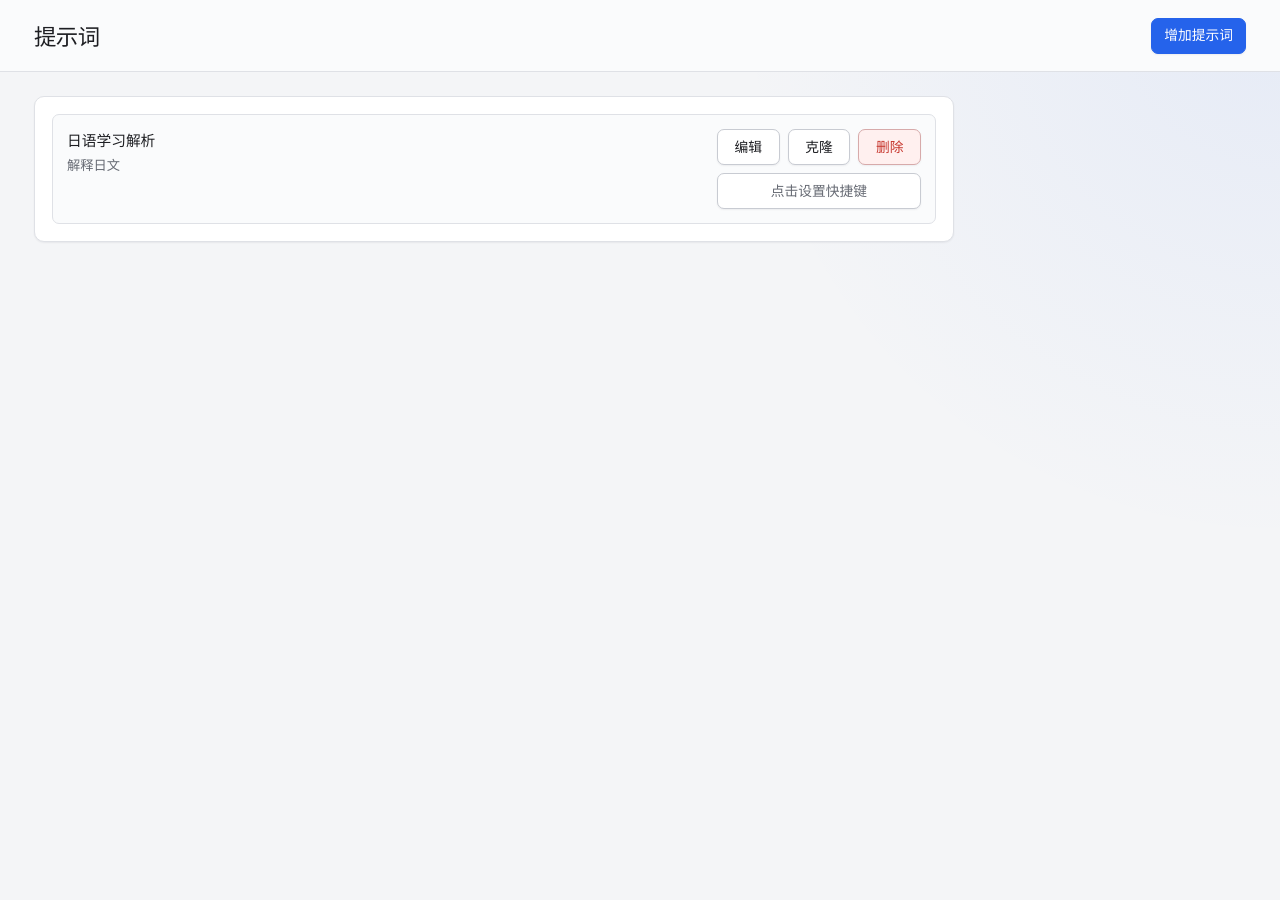
Test case: Prompts › loads, creates, edits, duplicates, and keeps keyboard-focusable controls
Expected: the heading "日语学习解析" is shown, [67, 130, 155, 150]
Click the button "编辑".
click(748, 147)  # box [717, 129, 780, 165]
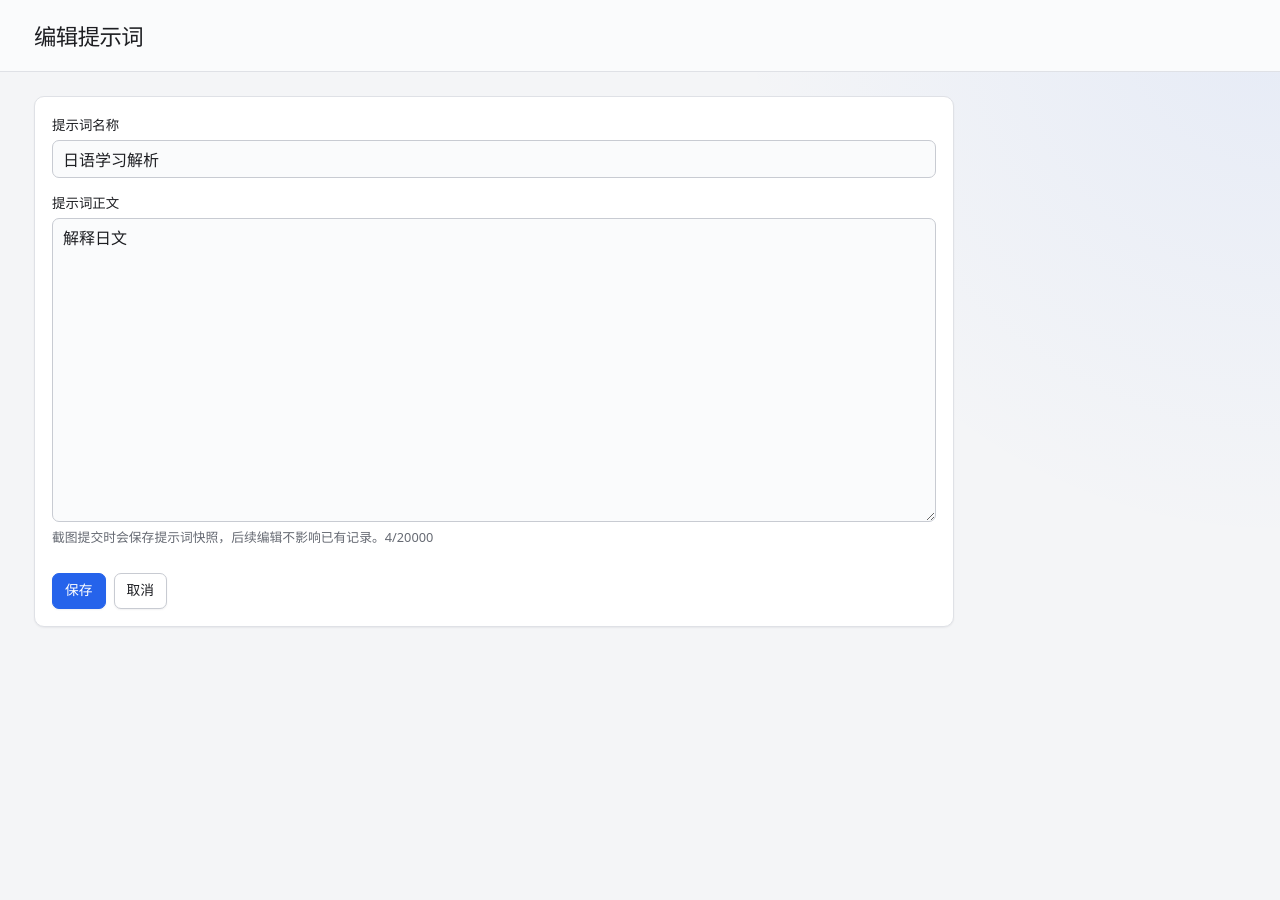
Now the field labelled "提示词名称" holds "日语学习解析", box [52, 140, 936, 178]
Replace the text in the text box labelled "提示词正文" with "更新正文" at (494, 370), box [52, 218, 936, 522]
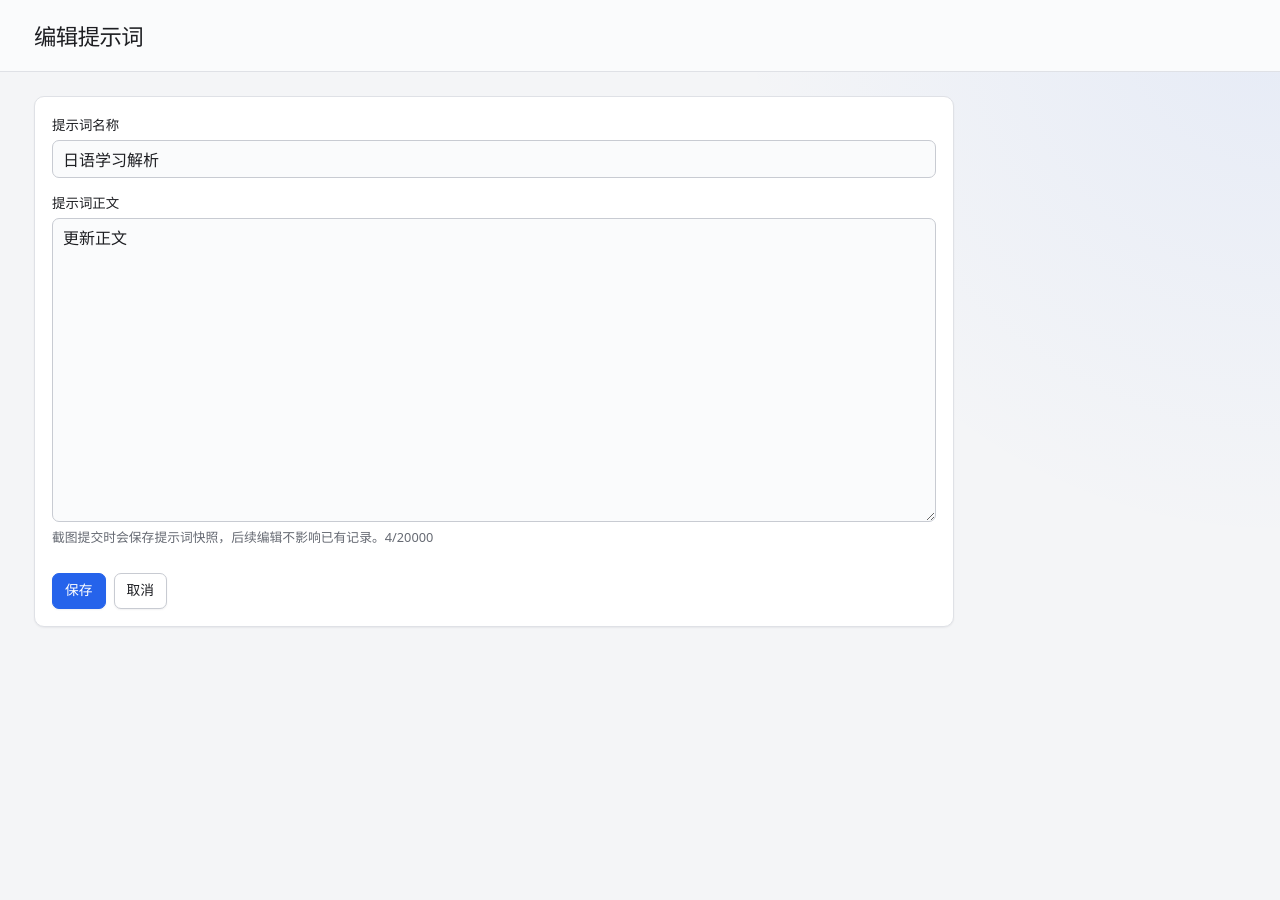
Click the button "保存".
click(79, 590)  # box [52, 572, 106, 608]
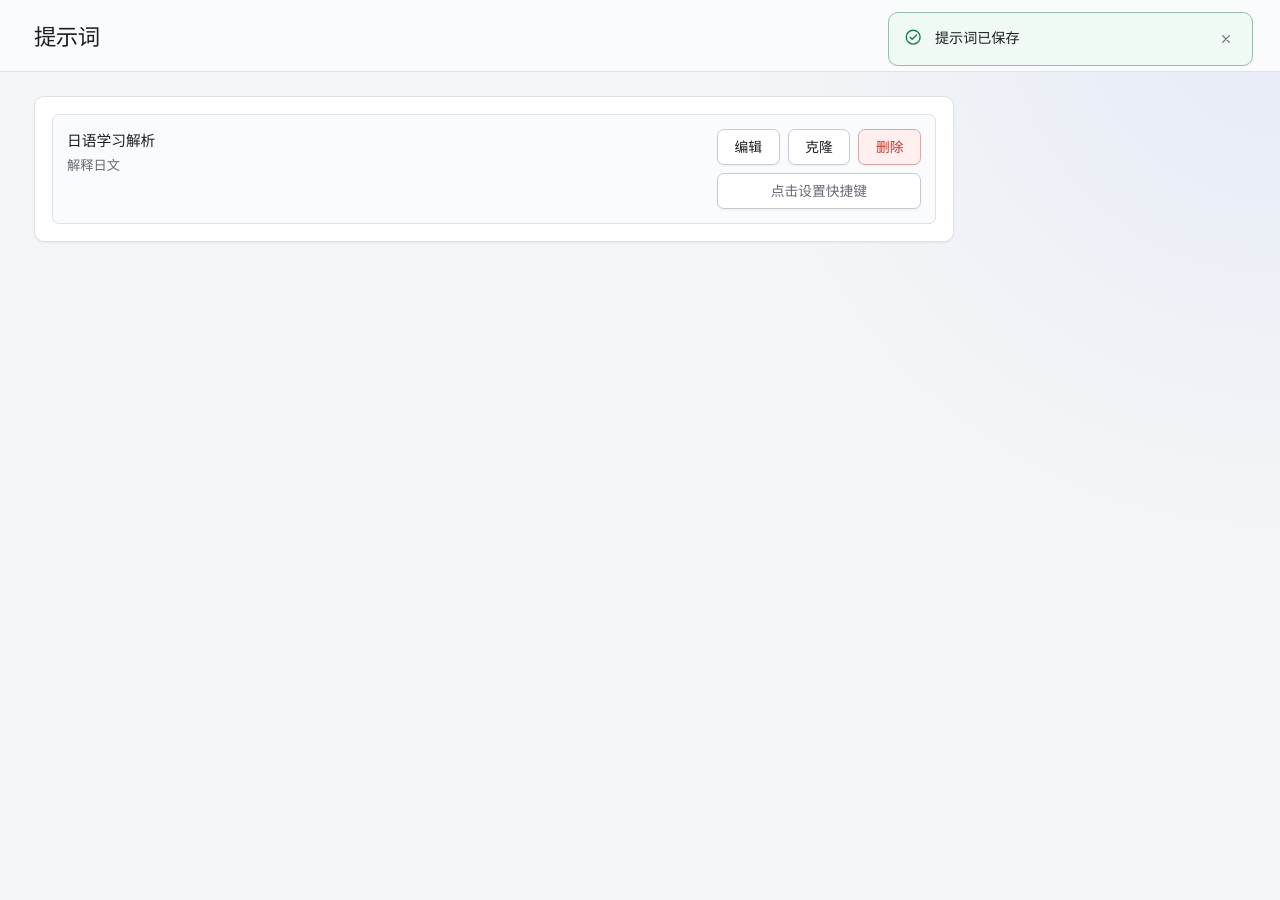
Now the text "提示词已保存" is shown, box [935, 28, 1020, 47]
Click the button "克隆".
click(819, 147)  # box [788, 129, 850, 165]
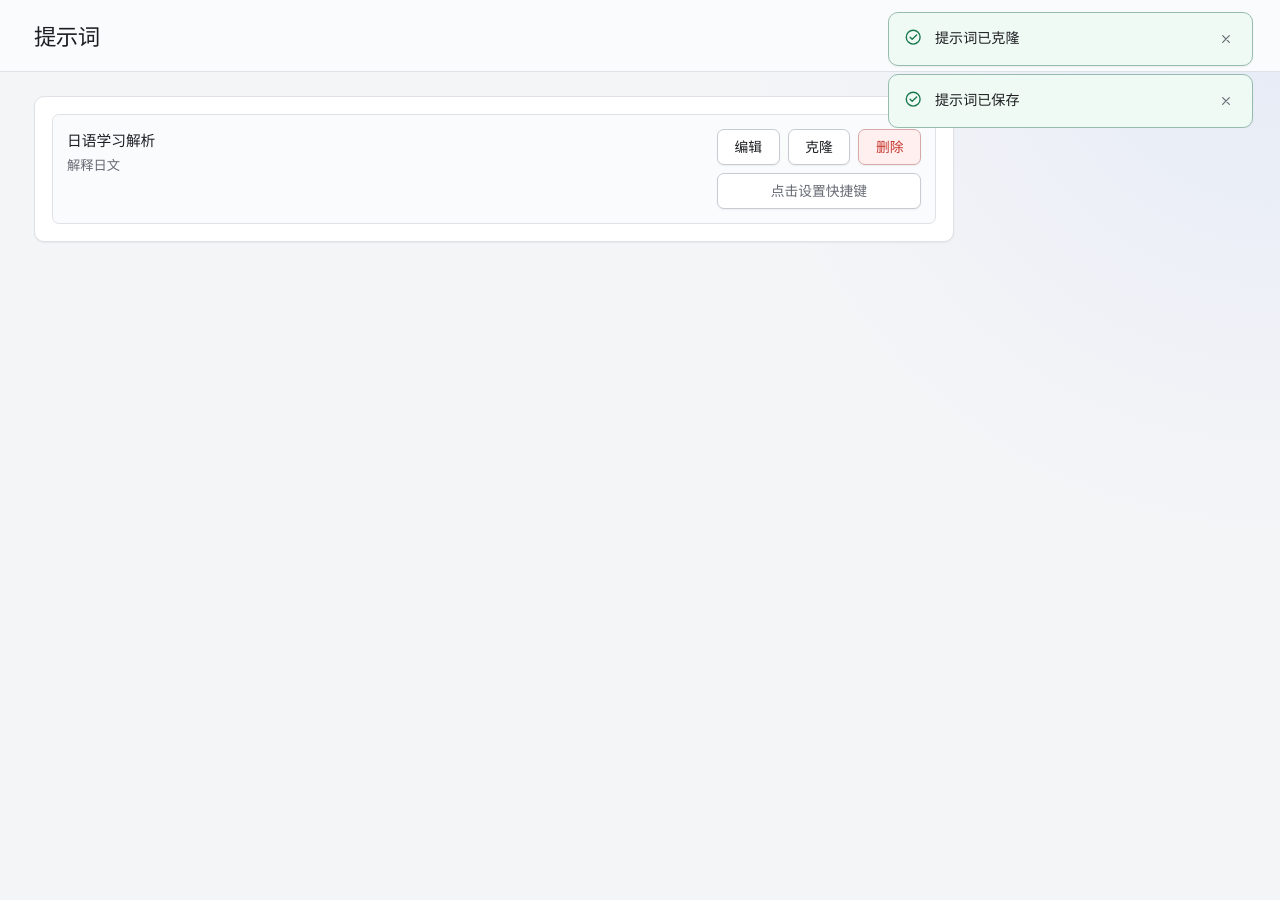
Now the text "提示词已克隆" is shown, box [935, 28, 1020, 47]
